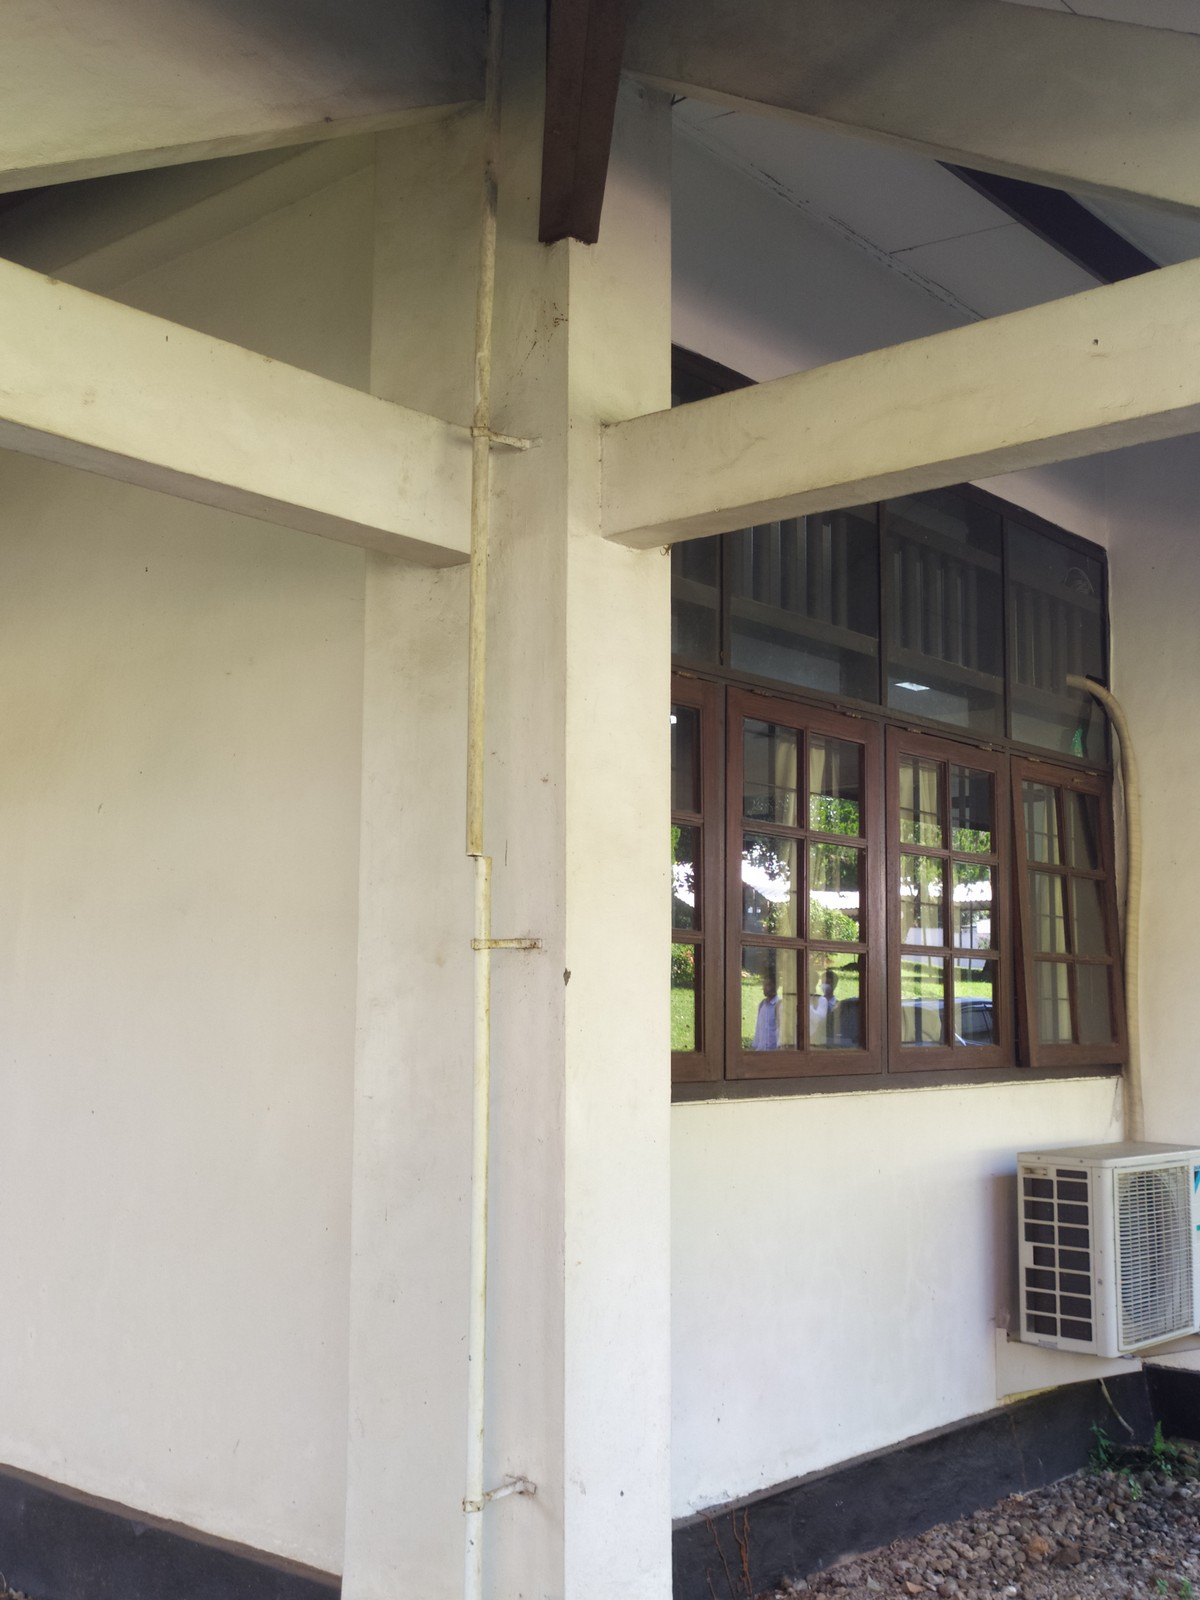concrete beam: (16, 270, 511, 582), (575, 334, 1200, 563)
concrete column: (337, 191, 691, 1579)
